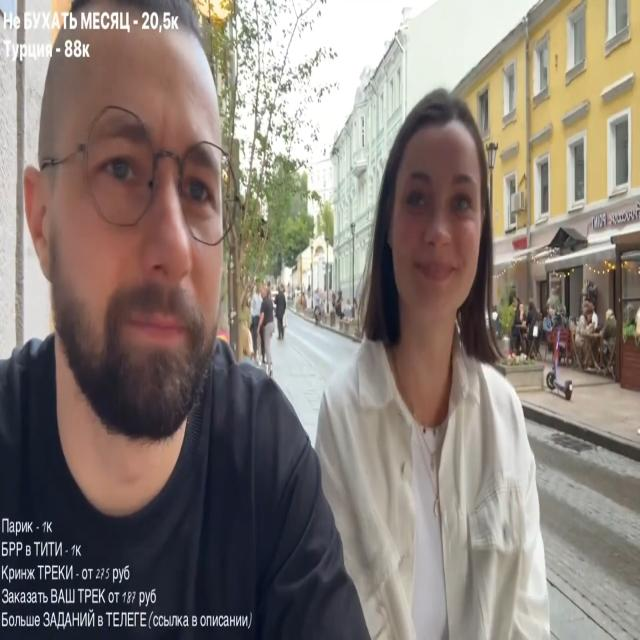Person: (0, 20, 356, 640), (300, 82, 558, 634), (250, 284, 278, 370), (573, 298, 601, 373), (600, 306, 619, 377), (524, 304, 540, 360), (273, 288, 288, 339)
